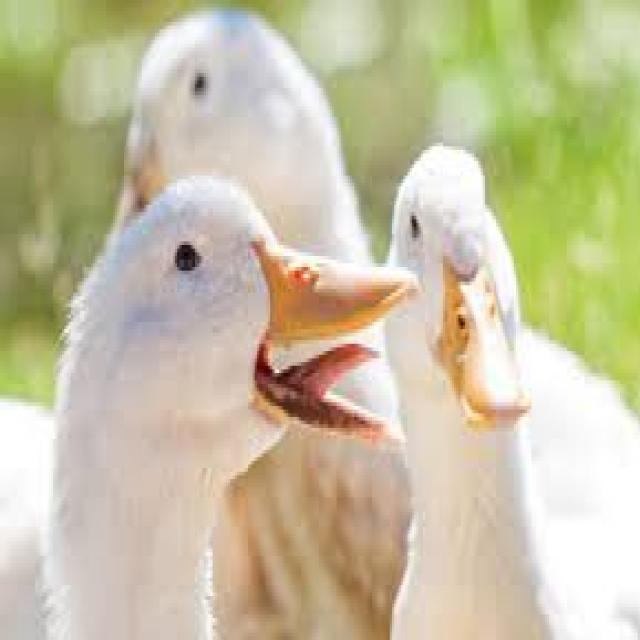Duck: (118, 8, 410, 640), (39, 166, 418, 640), (383, 120, 640, 640)
